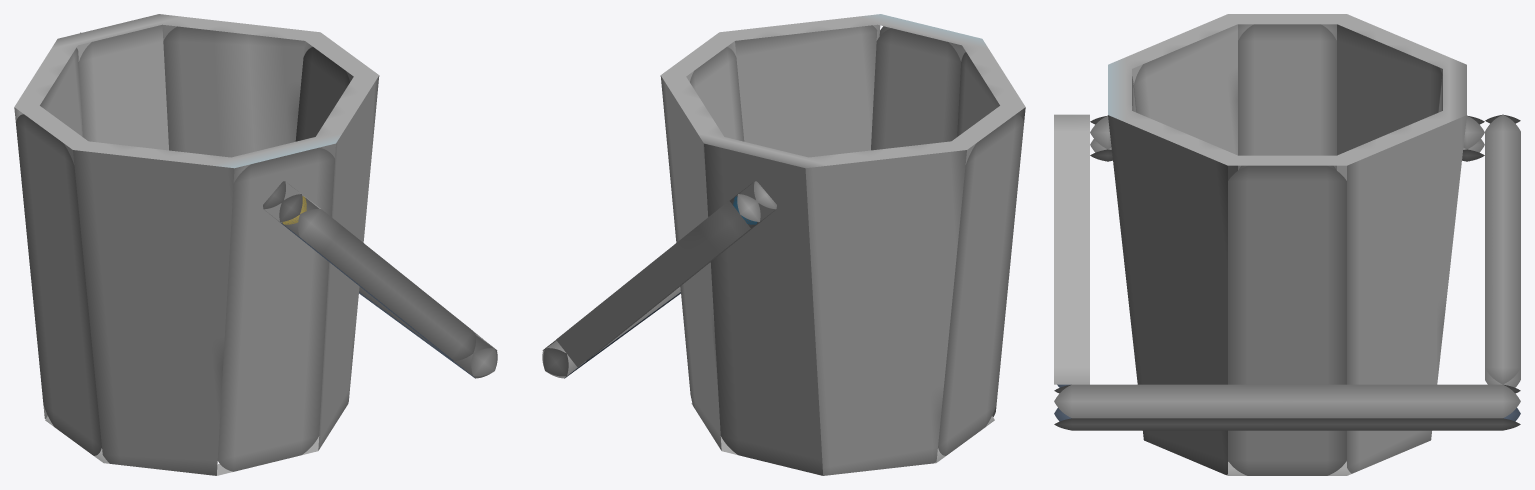
The model's file is Bucket.fbx.
The picture shows the model from 3 angles, left to right: view 1: azimuth 30°, elevation 25°; view 2: azimuth 150°, elevation 25°; view 3: azimuth 270°, elevation 25°; orthographic projection.
Parts seen in each view (by area): view 1: tube, cuboid_2, cuboid_4, cuboid; view 2: tube, cuboid_3, cuboid_4; view 3: tube, cuboid_4, cuboid_2, cuboid_3, cuboid, cuboid_1.
Boxes of the visible parts, left/top/right/bottom form: tube: left=14, top=14, right=379, bottom=475; cuboid_2: left=279, top=189, right=482, bottom=360; cuboid_4: left=359, top=287, right=497, bottom=378; cuboid: left=263, top=181, right=306, bottom=224; tube: left=660, top=14, right=1025, bottom=475; cuboid_3: left=556, top=194, right=760, bottom=367; cuboid_4: left=542, top=287, right=680, bottom=378; tube: left=1108, top=14, right=1466, bottom=475; cuboid_4: left=1054, top=384, right=1520, bottom=430; cuboid_2: left=1054, top=114, right=1089, bottom=393; cuboid_3: left=1485, top=114, right=1520, bottom=393; cuboid: left=1090, top=115, right=1112, bottom=161; cuboid_1: left=1462, top=115, right=1484, bottom=161.
Bounding box in the file's own units: 70.8 × 62.5 × 81.25.
1 material, 1 textured.
